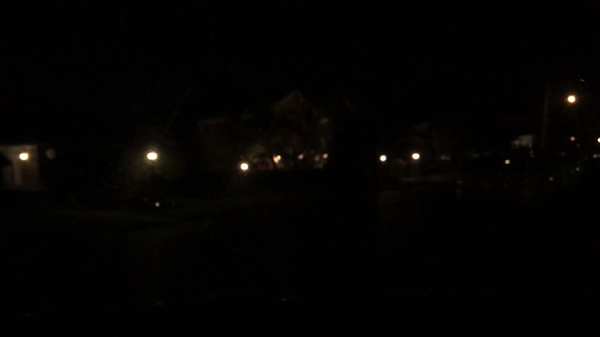car: (528, 159, 599, 238), (455, 150, 547, 201), (0, 187, 50, 279), (401, 159, 460, 194), (129, 191, 178, 211)
